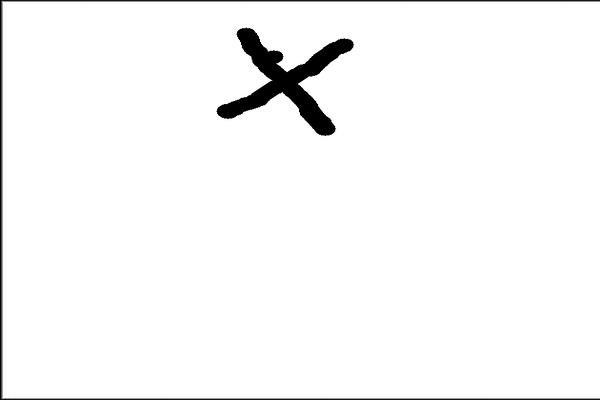X: (199, 15, 364, 151)
